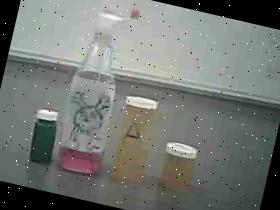Bottle A: (102, 86, 170, 190)
Bottle B: (148, 132, 212, 210)
Bottle C: (20, 103, 66, 168)
hazard: (44, 0, 145, 179)
